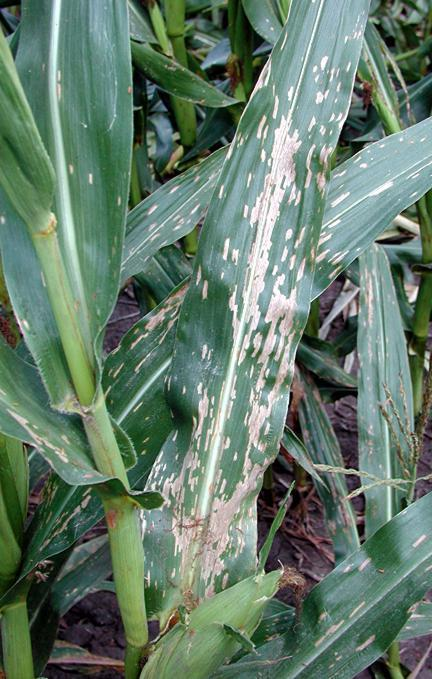Gray_Leaf_Spot: (226, 119, 311, 442), (157, 455, 252, 571), (223, 56, 297, 141), (290, 135, 358, 219), (138, 190, 206, 248), (142, 278, 191, 347), (35, 491, 90, 552), (9, 398, 55, 468), (306, 611, 391, 648), (190, 344, 212, 451), (351, 252, 381, 328), (298, 246, 360, 280), (365, 171, 404, 201), (312, 77, 355, 104), (227, 238, 250, 283), (323, 117, 360, 133), (316, 52, 335, 76)
